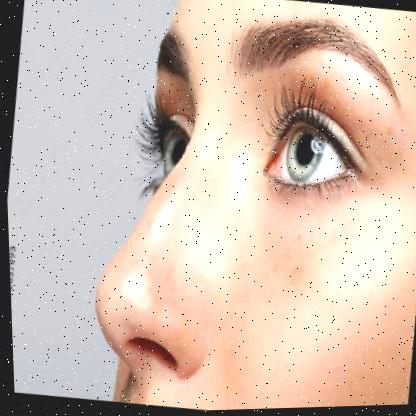person: (67, 0, 416, 414)
